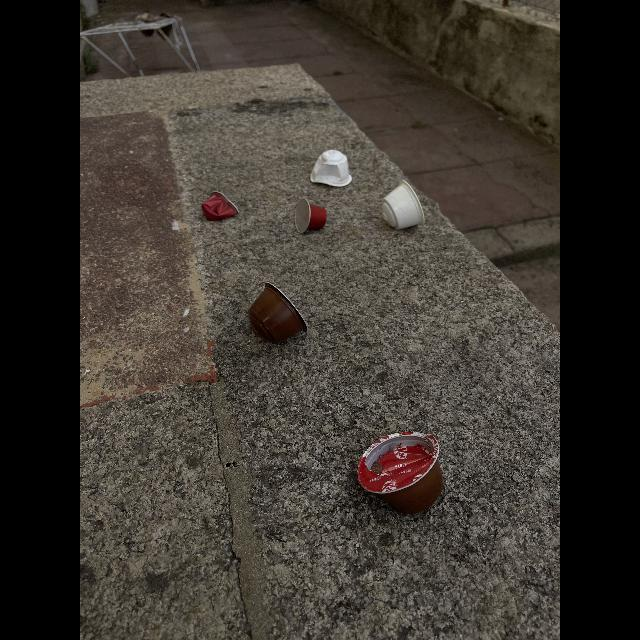damaged_capsule: (356, 428, 454, 516), (307, 146, 359, 190), (198, 187, 242, 223)
intact_capsule: (243, 280, 311, 348), (378, 178, 428, 234), (293, 196, 329, 236)
